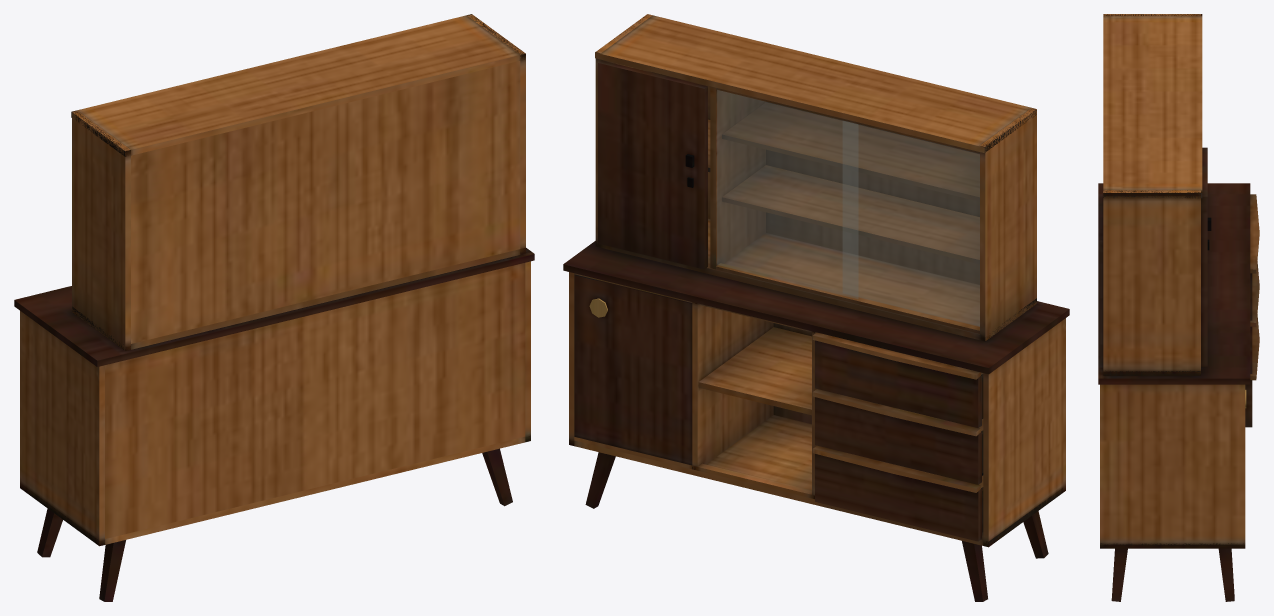
The model's file is sideboard_lod1_web.glb.
3 renders of one model, left to right at view 1: azimuth 30°, elevation 25°; view 2: azimuth 150°, elevation 25°; view 3: azimuth 270°, elevation 25°, orthographic. The views are drawn at different scales.
Parts seen in each view (by area): view 1: Sideboard_Body; view 2: Sideboard_Body, Glass_A, Glass_B, Door_Up_Mesh, Slide_Door_Mesh, Drawer_3_Mesh, Drawer_2_Mesh, Drawer_1_Mesh; view 3: Sideboard_Body, Door_Up_Mesh, Drawer_1_Mesh, Drawer_3_Mesh, Drawer_2_Mesh.
Part boxes in pixels (bbox=[...]): Sideboard_Body: bbox=[14, 14, 534, 601]; Sideboard_Body: bbox=[563, 14, 1069, 601]; Glass_A: bbox=[717, 90, 858, 298]; Glass_B: bbox=[843, 121, 979, 326]; Door_Up_Mesh: bbox=[598, 60, 707, 269]; Slide_Door_Mesh: bbox=[574, 274, 692, 465]; Drawer_3_Mesh: bbox=[812, 445, 983, 541]; Drawer_2_Mesh: bbox=[812, 389, 983, 484]; Drawer_1_Mesh: bbox=[812, 332, 983, 427]; Sideboard_Body: bbox=[1098, 14, 1250, 601]; Door_Up_Mesh: bbox=[1201, 147, 1211, 366]; Drawer_1_Mesh: bbox=[1250, 194, 1259, 320]; Drawer_3_Mesh: bbox=[1245, 314, 1259, 427]; Drawer_2_Mesh: bbox=[1250, 261, 1259, 373].
Bounding box in the file's own units: 1.42 × 1.4 × 0.495.
Materials: 3 (2 with a texture image).
